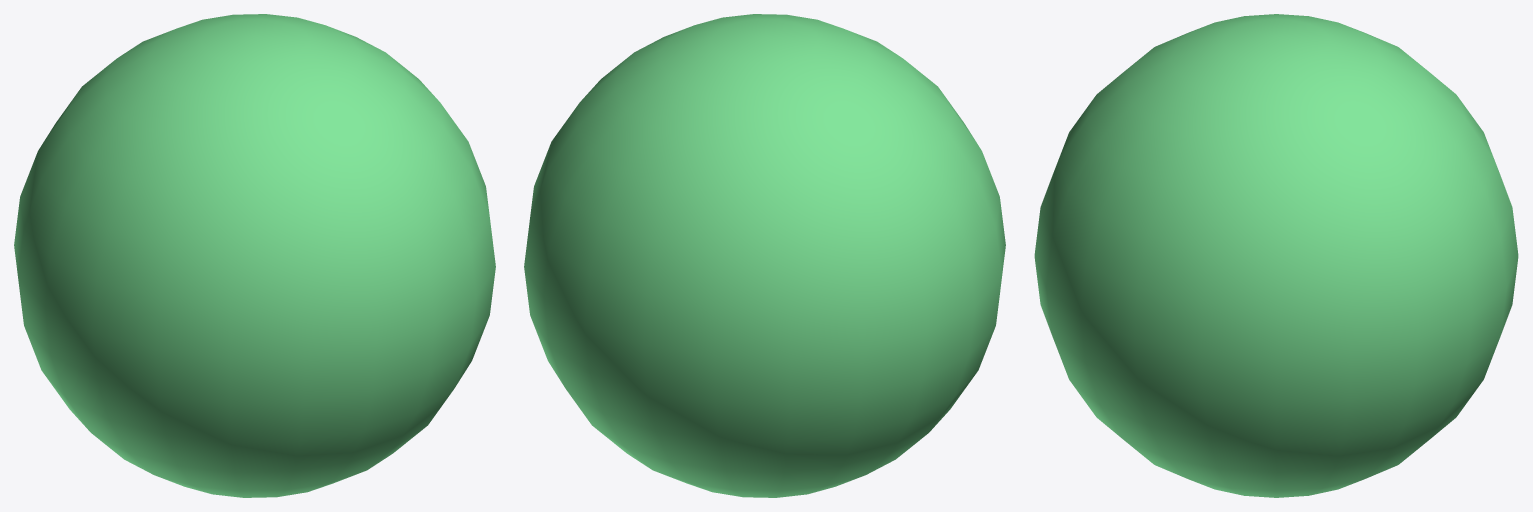
File: balloon_green.glb
The picture shows the model from 3 angles, left to right: view 1: azimuth 30°, elevation 25°; view 2: azimuth 150°, elevation 25°; view 3: azimuth 270°, elevation 25°; orthographic projection.
Parts seen in each view (by area): view 1: primitive; view 2: primitive; view 3: primitive.
Part boxes in pixels (box(x1,y1,x2,y2)): primitive: box(14, 14, 495, 497); primitive: box(524, 14, 1005, 497); primitive: box(1034, 14, 1518, 497).
Size of the model in its own units: 0.24 by 0.24 by 0.24.
